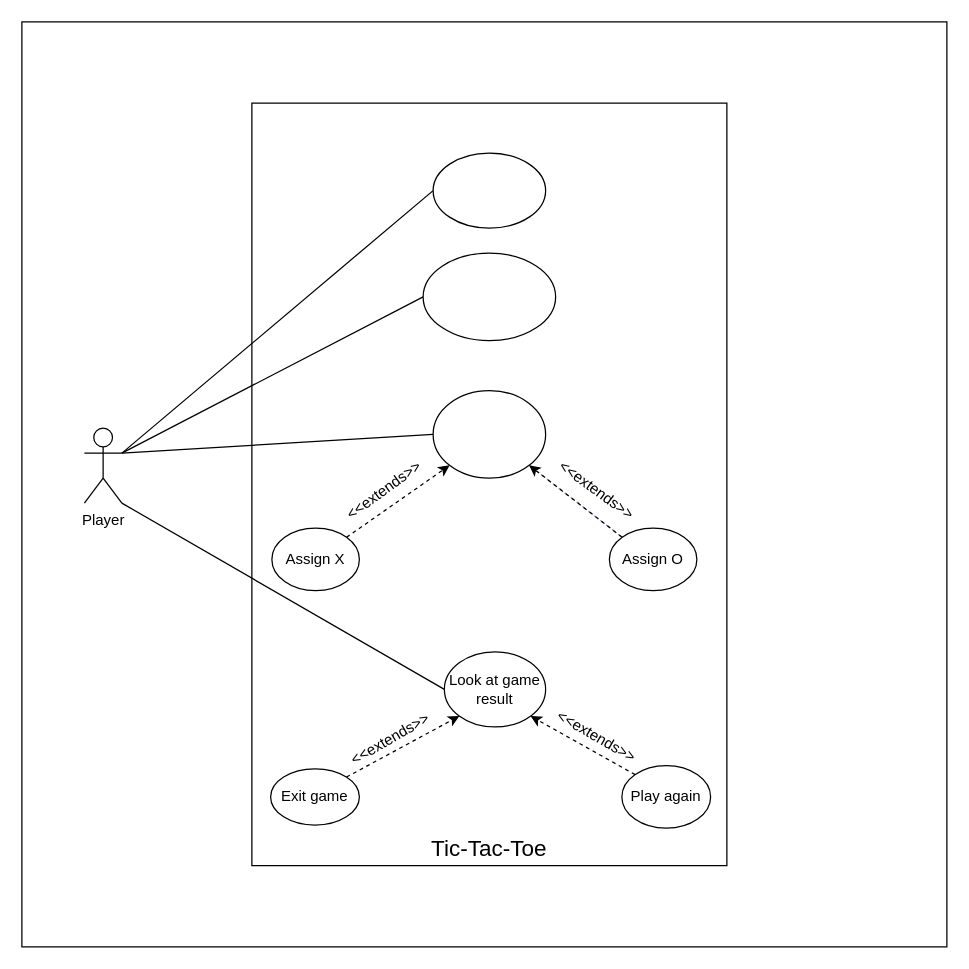
Some shapes in this 969 by 969 pixel diagram are drawn without their labels. Each missing label, with the centre of its shape:
"Input player name" goes at point 489,296.
"Make a move" goes at point 489,433.
"Start Game" goes at point 489,190.
